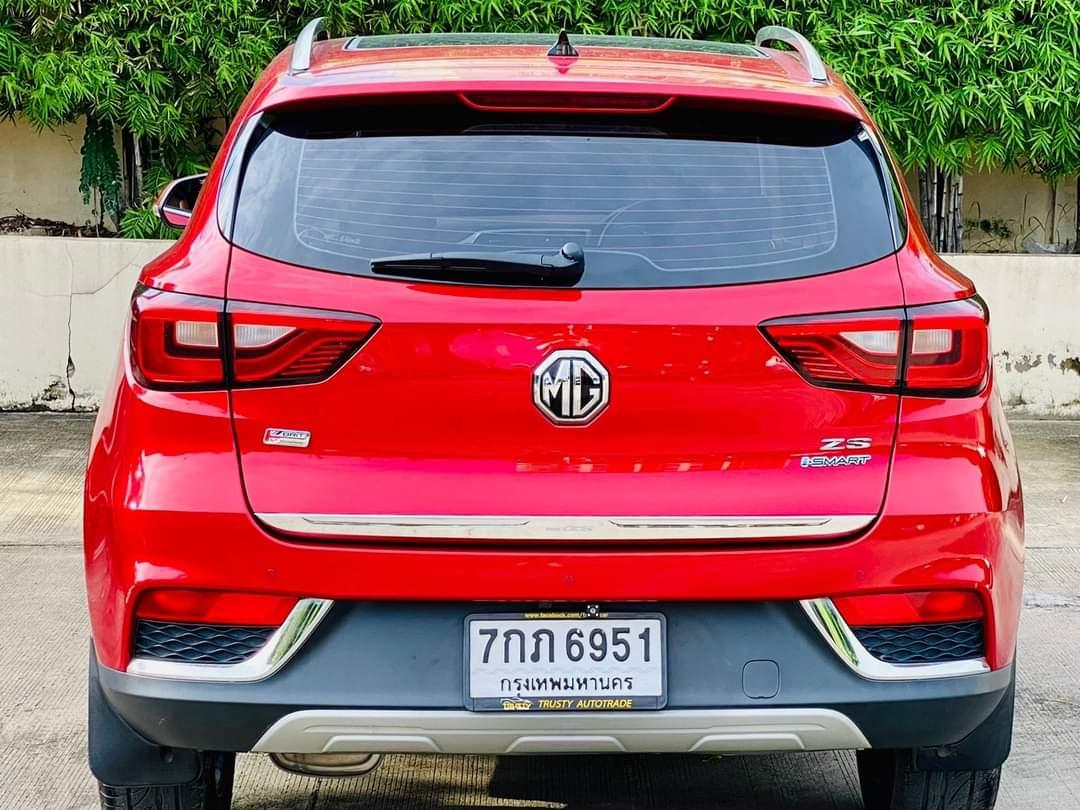license-plate: (462, 607, 671, 716)
